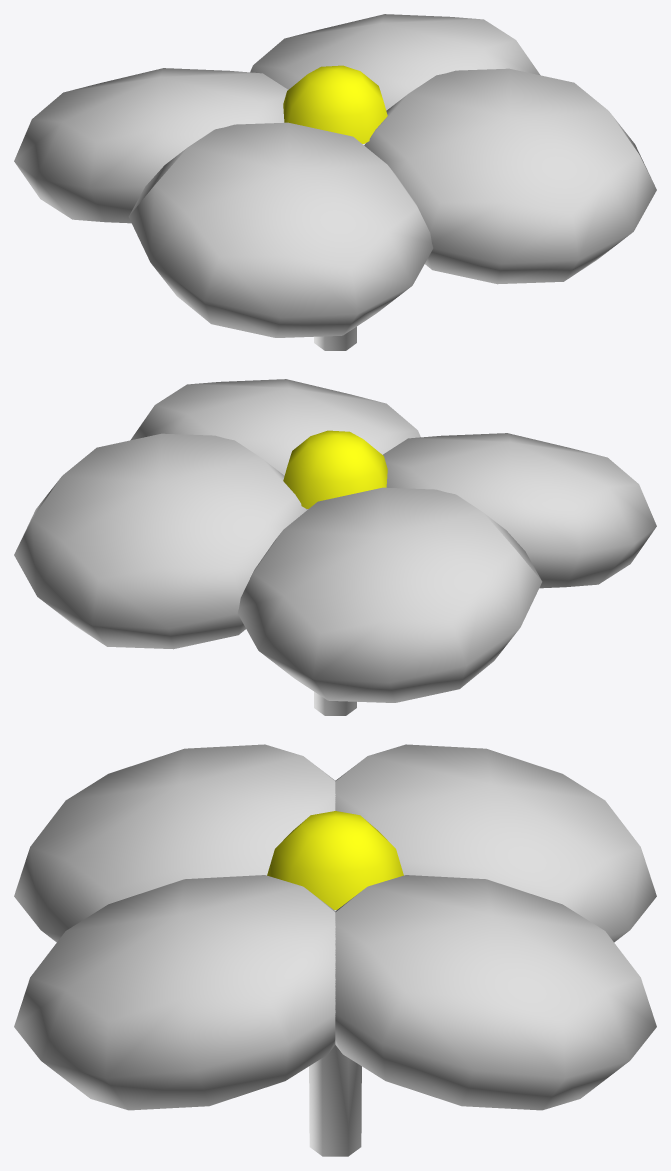
Rendered from Flower.glb.
3 views of the same model, one above another, from view 1: azimuth 30°, elevation 25°; view 2: azimuth 150°, elevation 25°; view 3: azimuth 270°, elevation 25° (orthographic). The views are drawn at different scales.
Parts seen in each view (by area): view 1: Flower; view 2: Flower; view 3: Flower.
Part boxes in pixels (box(x1,y1,x2,y2)): Flower: box(14, 14, 656, 350); Flower: box(14, 379, 656, 715); Flower: box(14, 744, 656, 1156).
Bounding box in the file's own units: 1.81 × 0.972 × 1.72.
